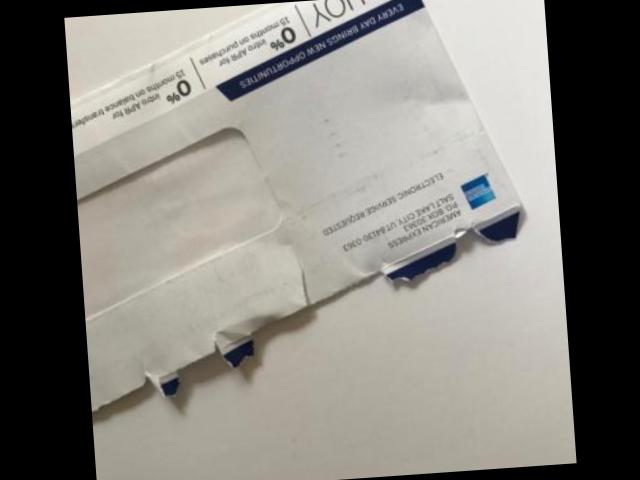cardboard paper: (70, 0, 522, 406)
